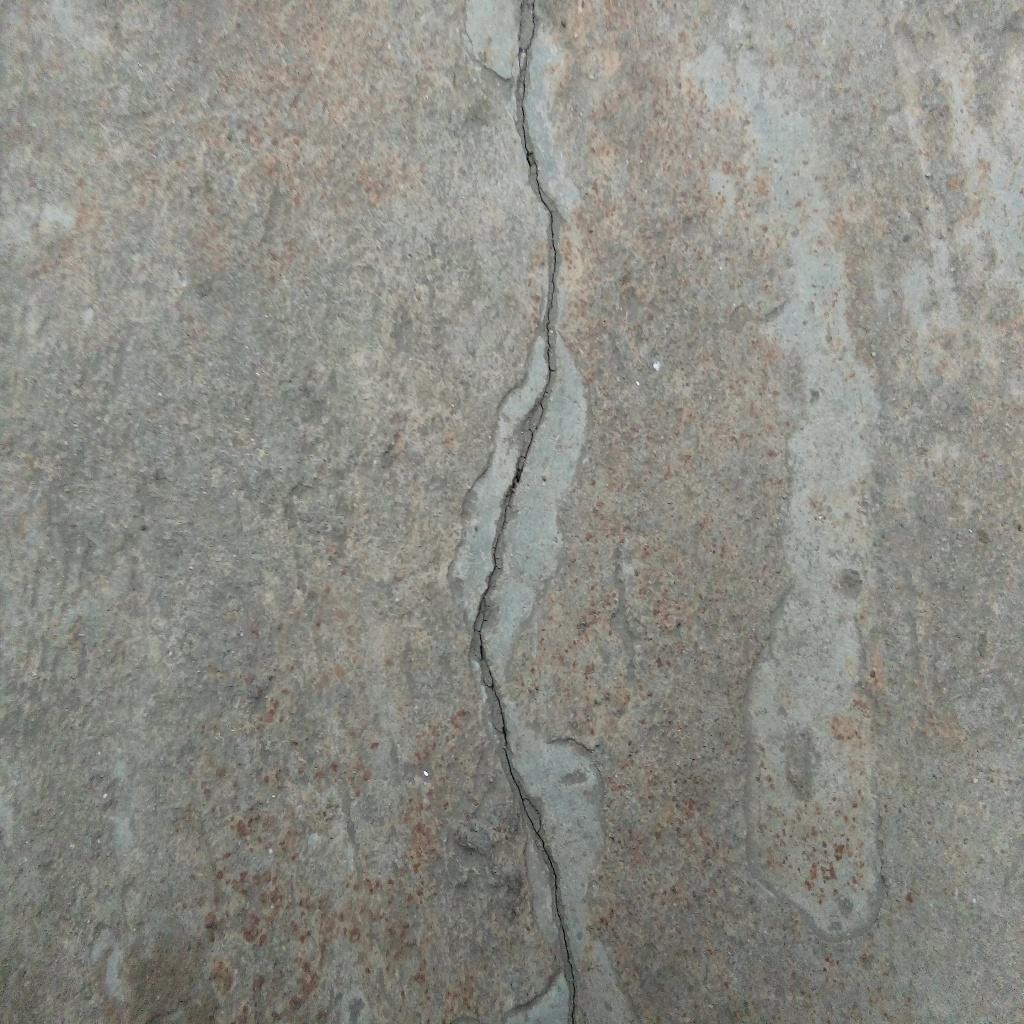Crack: (467, 1, 577, 1024)
